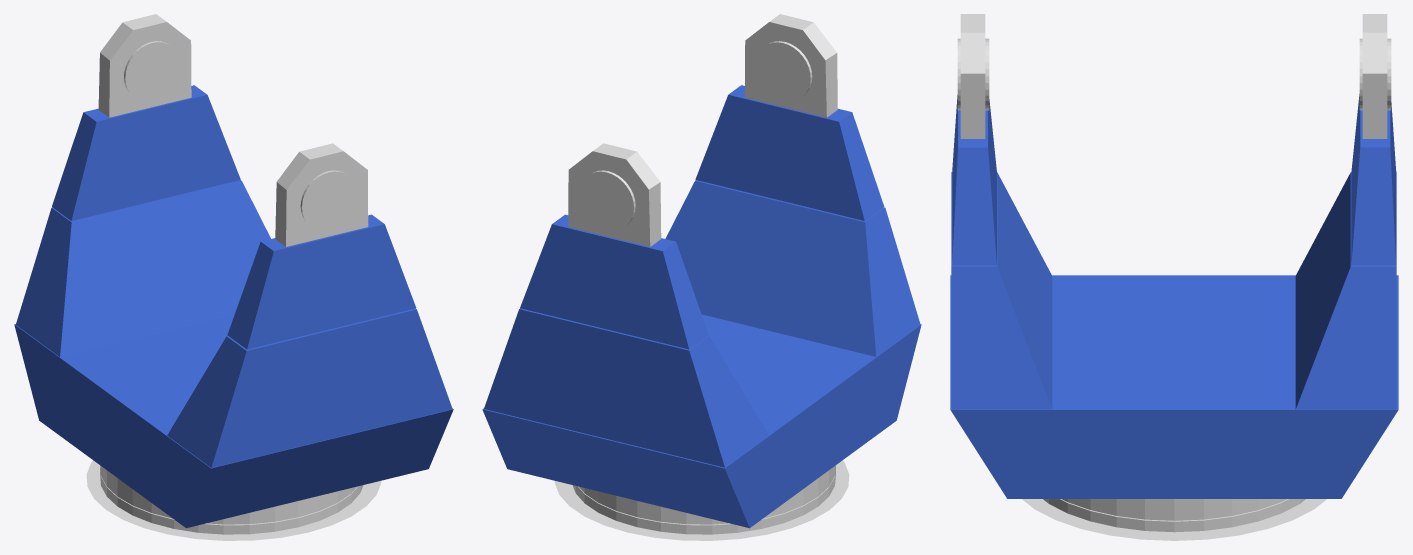
File: LDT-just-Yoke-colored.glb
The picture shows the model from 3 angles, left to right: view 1: azimuth 30°, elevation 25°; view 2: azimuth 150°, elevation 25°; view 3: azimuth 270°, elevation 25°; orthographic projection. The views are drawn at different scales.
Visible parts, largest first — view 1: Circle; view 2: Circle; view 3: Circle.
Part boxes in pixels (x1,y1,x2,y2): Circle: [14, 14, 453, 540]; Circle: [482, 14, 921, 540]; Circle: [950, 14, 1398, 540].
Size of the model in its own units: 6 by 8.79 by 8.
